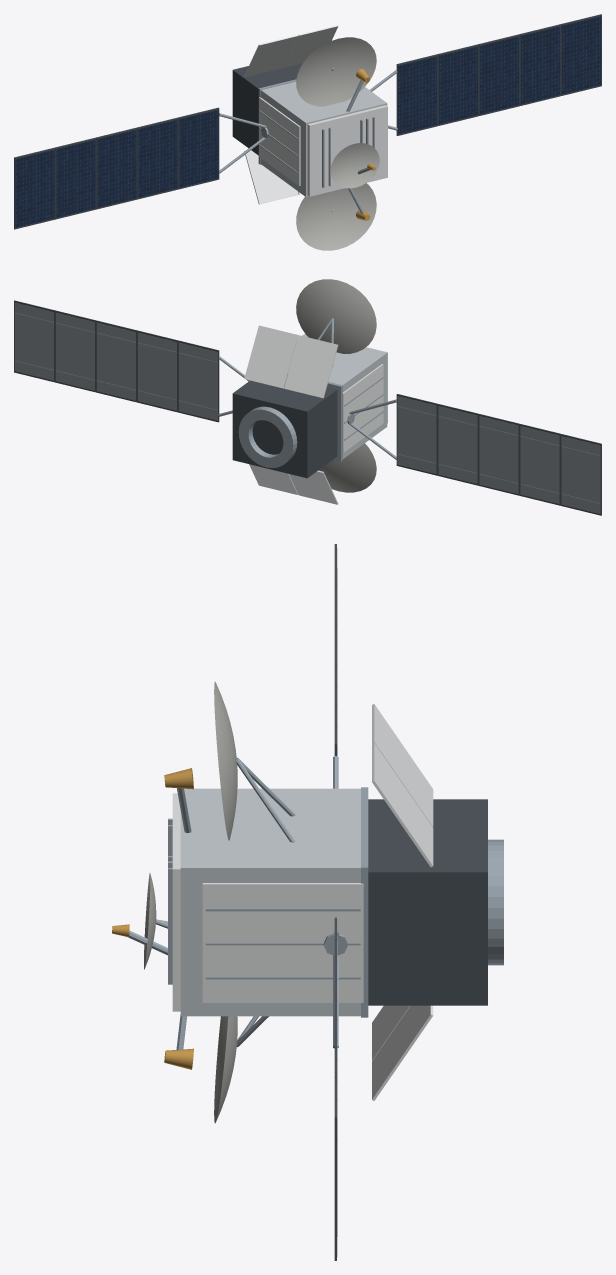
The model's file is a2100-long-array.glb.
The picture shows the model from 3 angles, top to bottom: view 1: azimuth 30°, elevation 25°; view 2: azimuth 150°, elevation 25°; view 3: azimuth 270°, elevation 25°; orthographic projection. The views are drawn at different scales.
Parts seen in each view (by area): view 1: Solar cell panel (×10), Communications reflector (×2), Solar panel frame (×10), Earth-facing deck, Deployed radiator leaf (×3), Payload module, Service module, Radiator face, Deck-mounted reflector; view 2: Rear array substrate (×10), Service module, Deployed radiator leaf (×4), Communications reflector (×2), Solar panel frame (×10), Radiator face, Payload module, Launch adapter ring, Module interface; view 3: Service module, Payload module, Radiator face, Deployed radiator leaf (×4), Communications reflector (×2), Launch adapter ring, Earth-facing deck, Module interface.
Boxes of the visible parts, x1=… form: Solar cell panel (×10): x1=15, y1=16, x2=601, y2=227; Communications reflector (×2): x1=296, y1=37, x2=376, y2=250; Solar panel frame (×10): x1=14, y1=14, x2=601, y2=229; Earth-facing deck: x1=307, y1=105, x2=387, y2=196; Deployed radiator leaf (×3): x1=244, y1=25, x2=338, y2=204; Payload module: x1=261, y1=81, x2=387, y2=196; Service module: x1=232, y1=63, x2=302, y2=155; Radiator face: x1=259, y1=97, x2=300, y2=185; Deck-mounted reflector: x1=330, y1=143, x2=379, y2=188; Rear array substrate (×10): x1=14, y1=302, x2=600, y2=513; Service module: x1=232, y1=378, x2=337, y2=478; Deployed radiator leaf (×4): x1=244, y1=325, x2=338, y2=504; Communications reflector (×2): x1=296, y1=279, x2=376, y2=492; Solar panel frame (×10): x1=14, y1=300, x2=601, y2=515; Radiator face: x1=342, y1=364, x2=383, y2=452; Payload module: x1=288, y1=333, x2=387, y2=458; Launch adapter ring: x1=238, y1=406, x2=297, y2=467; Module interface: x1=287, y1=372, x2=342, y2=461; Service module: x1=368, y1=799, x2=487, y2=1005; Payload module: x1=180, y1=788, x2=360, y2=1016; Radiator face: x1=202, y1=883, x2=363, y2=1002; Deployed radiator leaf (×4): x1=372, y1=704, x2=433, y2=1100; Communications reflector (×2): x1=214, y1=681, x2=237, y2=1123; Launch adapter ring: x1=488, y1=839, x2=503, y2=965; Earth-facing deck: x1=172, y1=793, x2=180, y2=1011; Module interface: x1=361, y1=787, x2=368, y2=1017.
Size of the model in its own units: 25.98 by 8.91 by 7.51.
8 materials, 1 textured.
